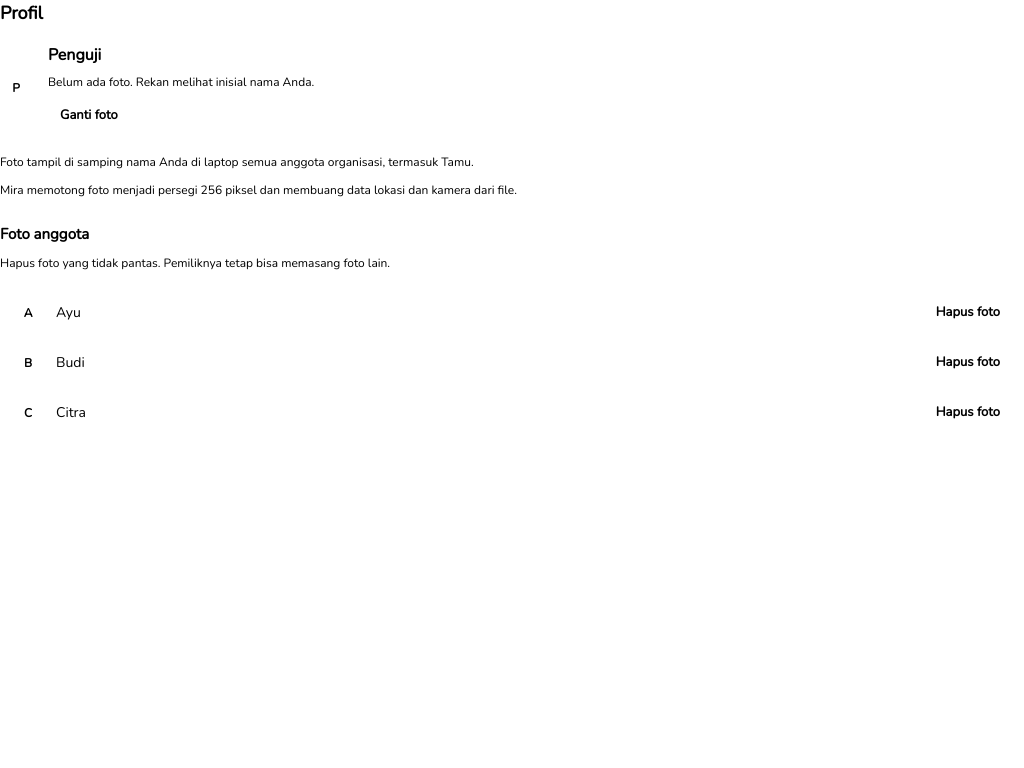
Test: Foto anggota › setelah hapus foto anggota fokus pindah ke baris berikutnya
// Urutan: Ayu, Budi, Citra. Budi dihapus, fokus ke Citra.
Click the button with aria-label "Hapus foto Budi": {"x": 968, "y": 362} [924, 346, 1012, 380]
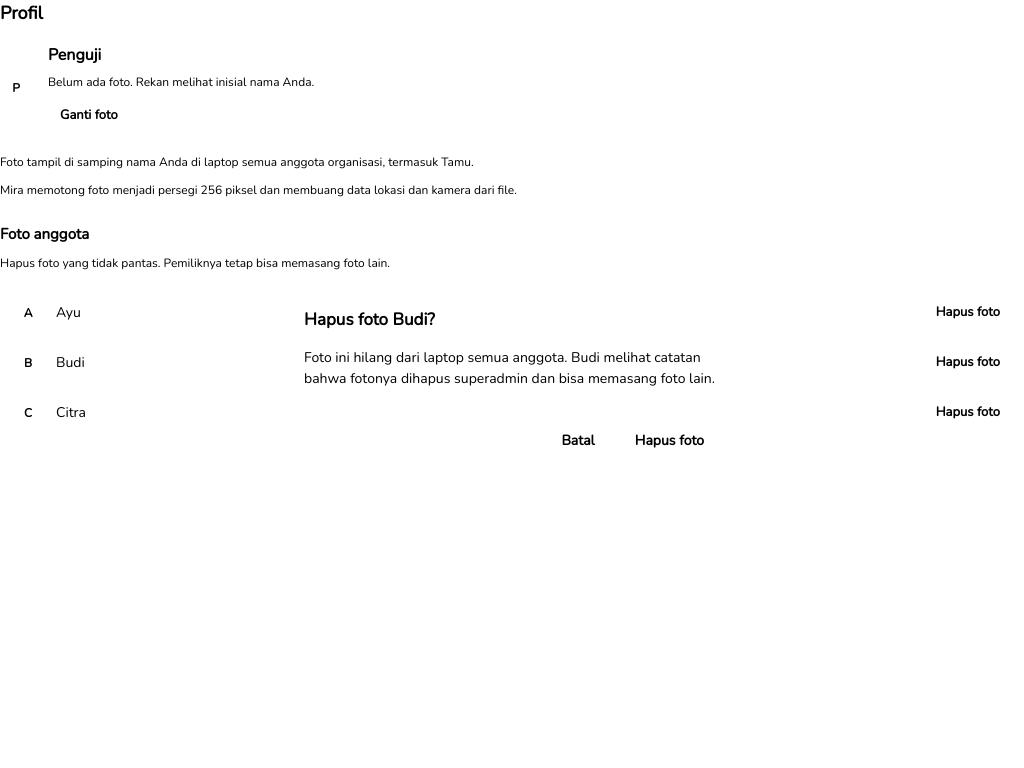
Click the button "Hapus foto": {"x": 669, "y": 441} [619, 421, 720, 461]
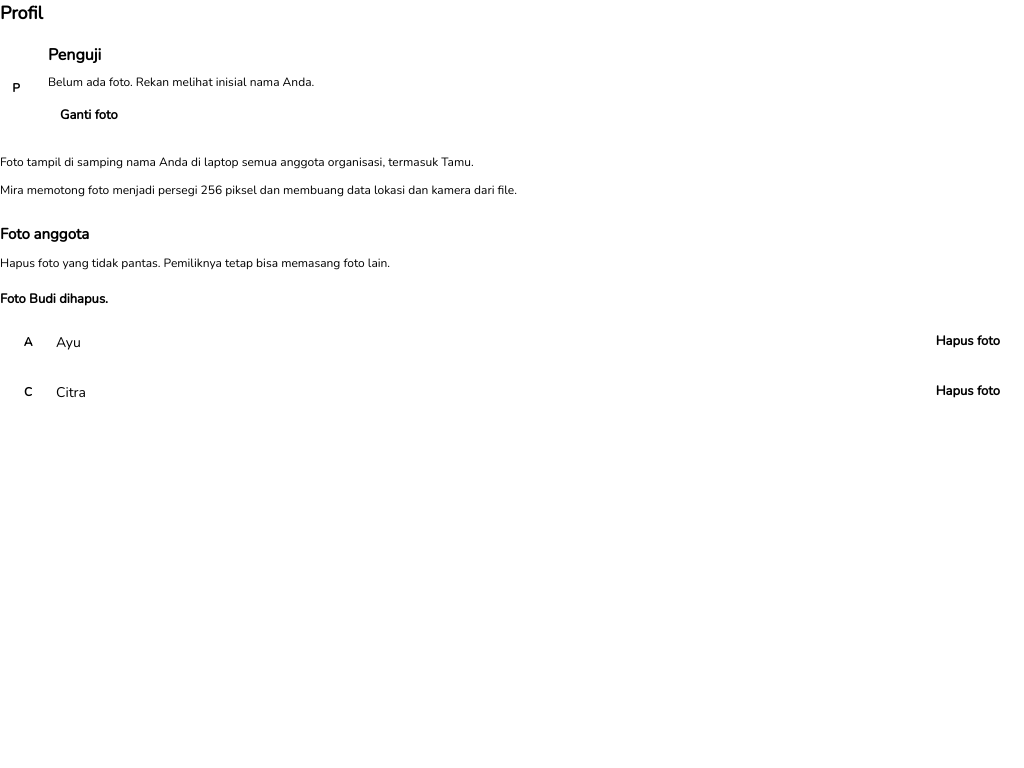
Expected: the heading "Hapus foto Budi" is gone
